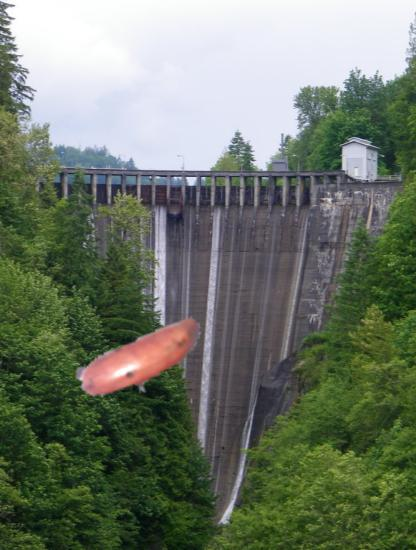Banana: (74, 296, 212, 434)
